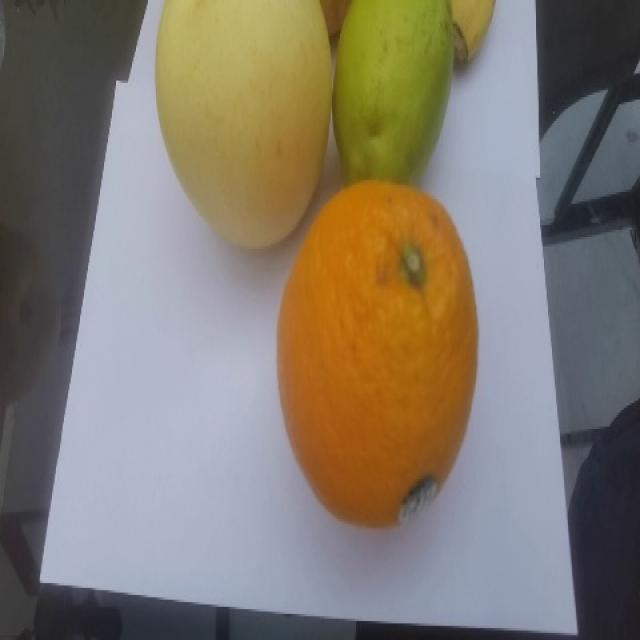Banana: (456, 0, 502, 70)
Orange: (272, 178, 482, 534)
